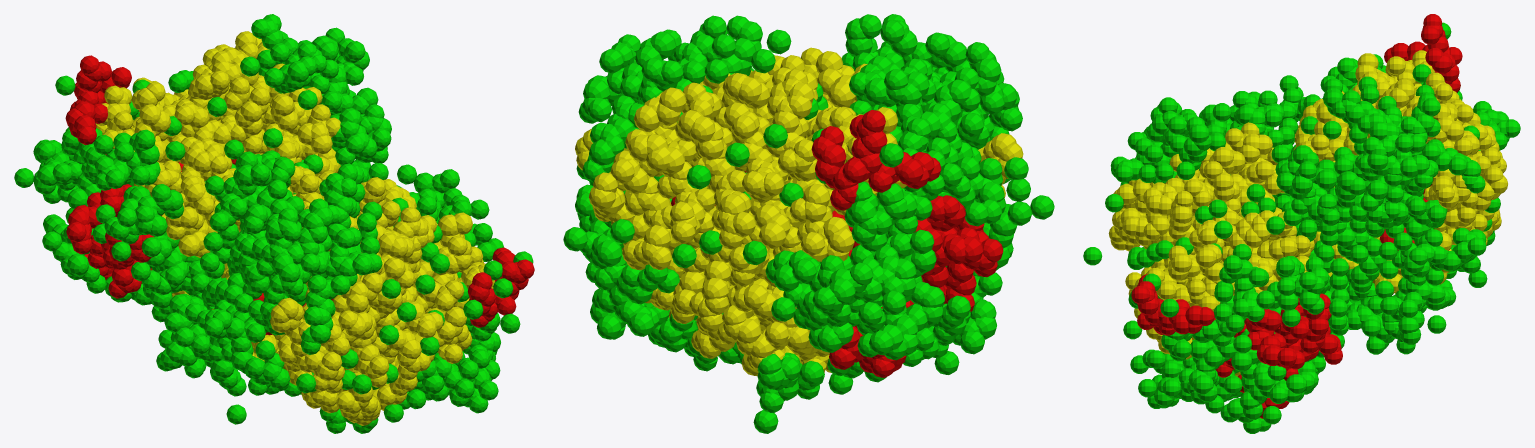
Rendered from 1gfl__spheres__secondary-structure.glb.
3 views of the same model, side by side, from view 1: azimuth 30°, elevation 25°; view 2: azimuth 150°, elevation 25°; view 3: azimuth 270°, elevation 25° (orthographic). The views are drawn at different scales.
Parts seen in each view (by area): view 1: Renderer Node; view 2: Renderer Node; view 3: Renderer Node.
Part boxes in pixels (left/top/right/bottom): Renderer Node: left=14, top=14, right=534, bottom=433; Renderer Node: left=563, top=14, right=1054, bottom=433; Renderer Node: left=1083, top=14, right=1520, bottom=433.
Size of the model in its own units: 64.21 by 56.48 by 69.87.
